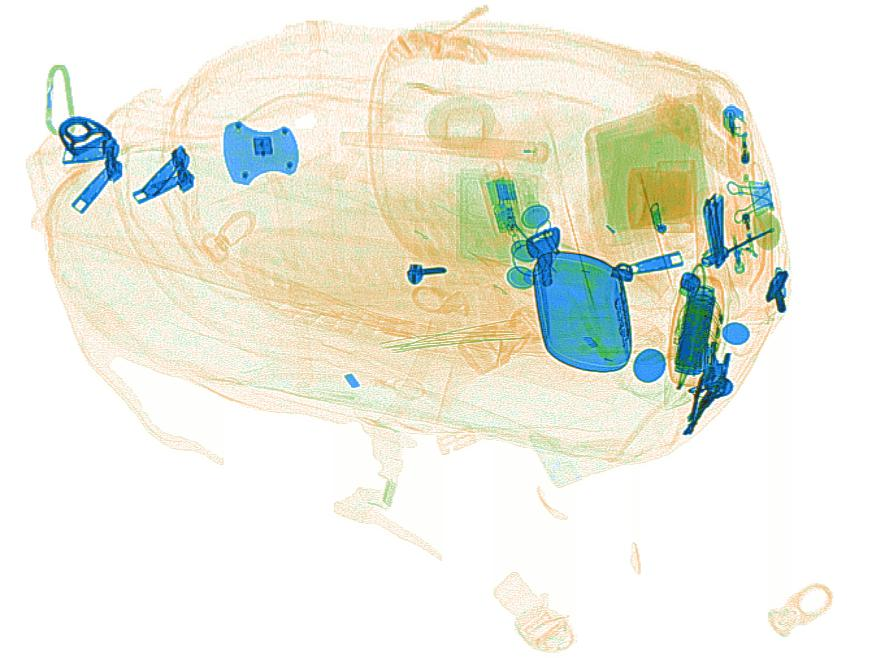USBFlashDisk: (479, 170, 522, 239)
battery: (672, 280, 715, 378)
lighter: (727, 174, 763, 274), (721, 100, 758, 189)
